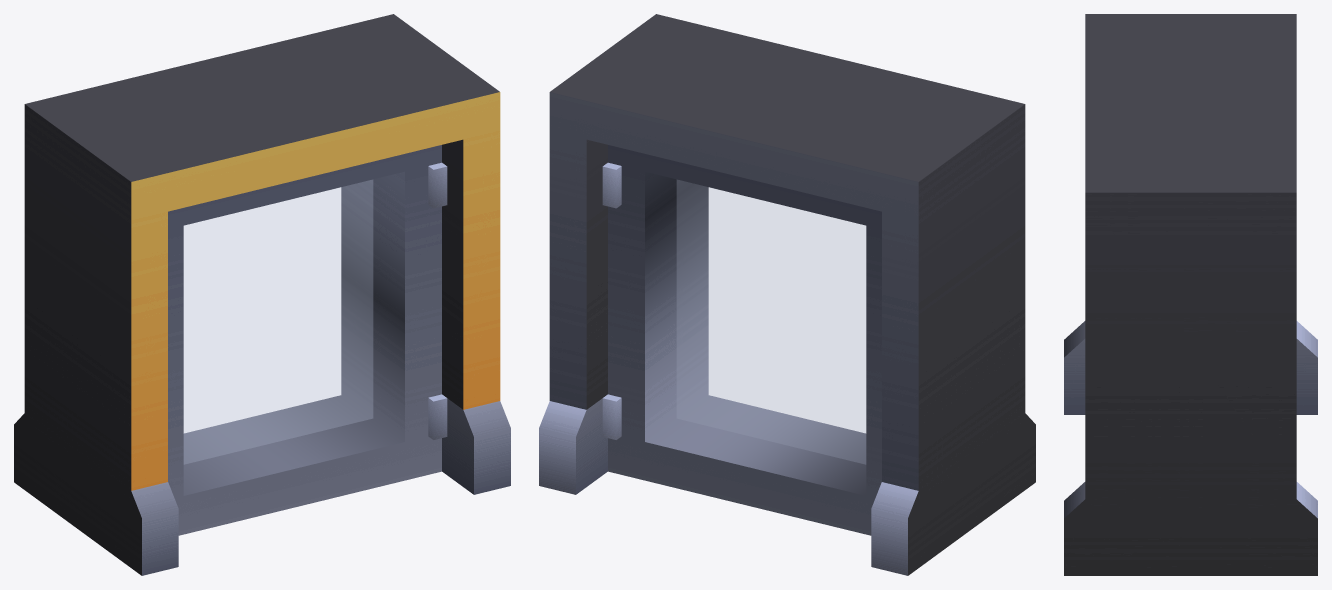
The model's file is mini-arcade--wall-window.glb.
3 renders of one model, left to right at view 1: azimuth 30°, elevation 25°; view 2: azimuth 150°, elevation 25°; view 3: azimuth 270°, elevation 25°, orthographic.
Visible parts, largest first — view 1: wall-window, (%ignore); view 2: wall-window, (%ignore); view 3: wall-window.
Boxes of the visible parts, bbox=[...] form: wall-window: bbox=[14, 14, 510, 575]; (%ignore): bbox=[184, 180, 372, 464]; wall-window: bbox=[539, 14, 1035, 575]; (%ignore): bbox=[677, 180, 865, 464]; wall-window: bbox=[1064, 14, 1317, 575].
Size of the model in its own units: 1 by 1 by 0.6.
Materials: 2 (1 with a texture image).
